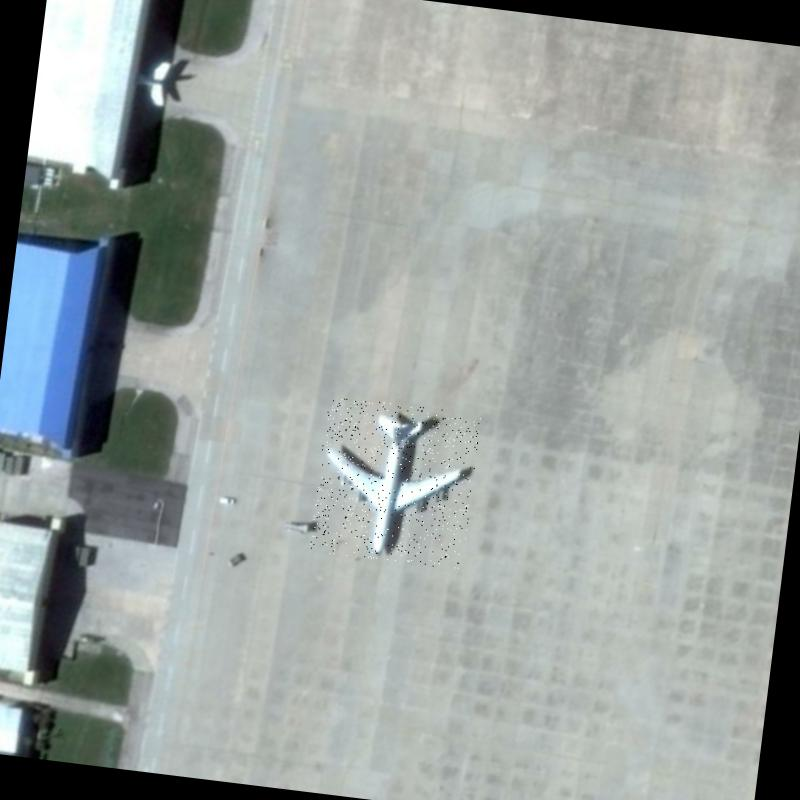A11: (309, 395, 481, 570)
